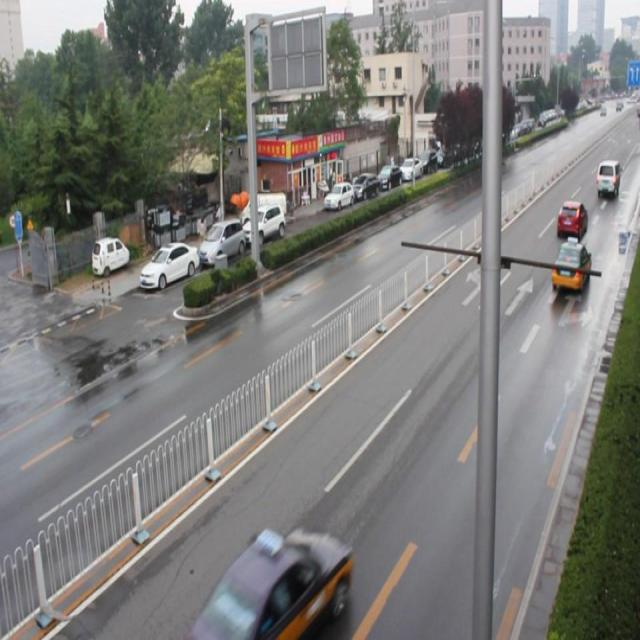car: (196, 520, 351, 630), (551, 236, 589, 291), (555, 198, 586, 236)
truck: (596, 159, 617, 198)
